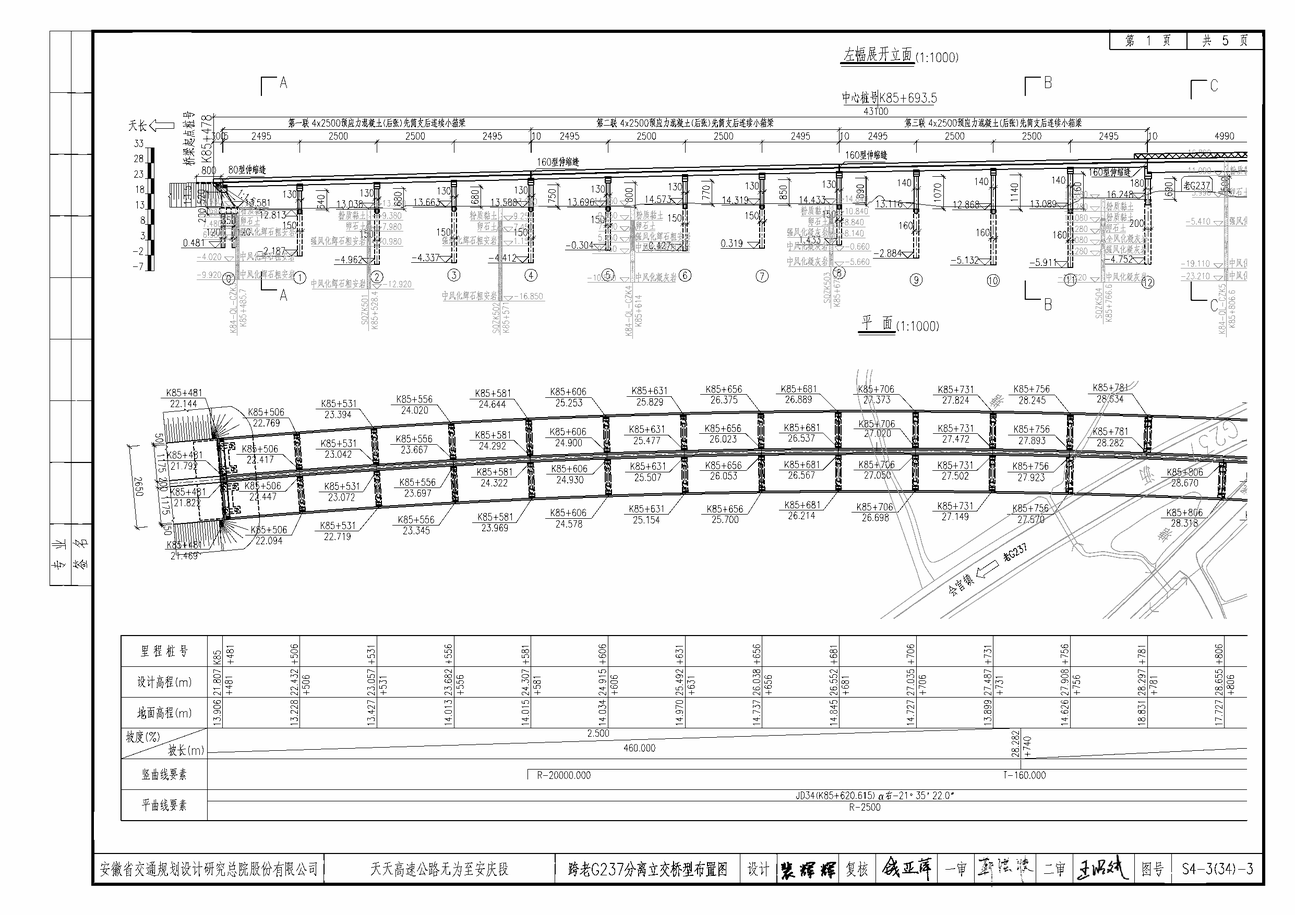A: (122, 43, 1260, 355)
